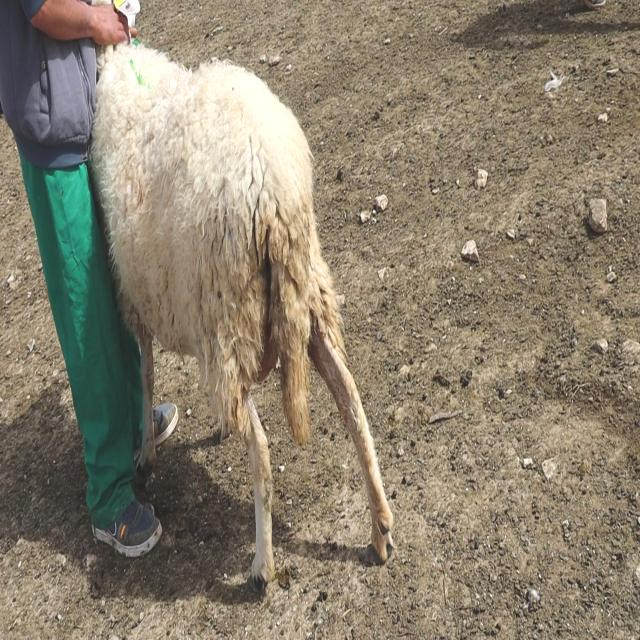Score_4: (90, 44, 394, 589)
